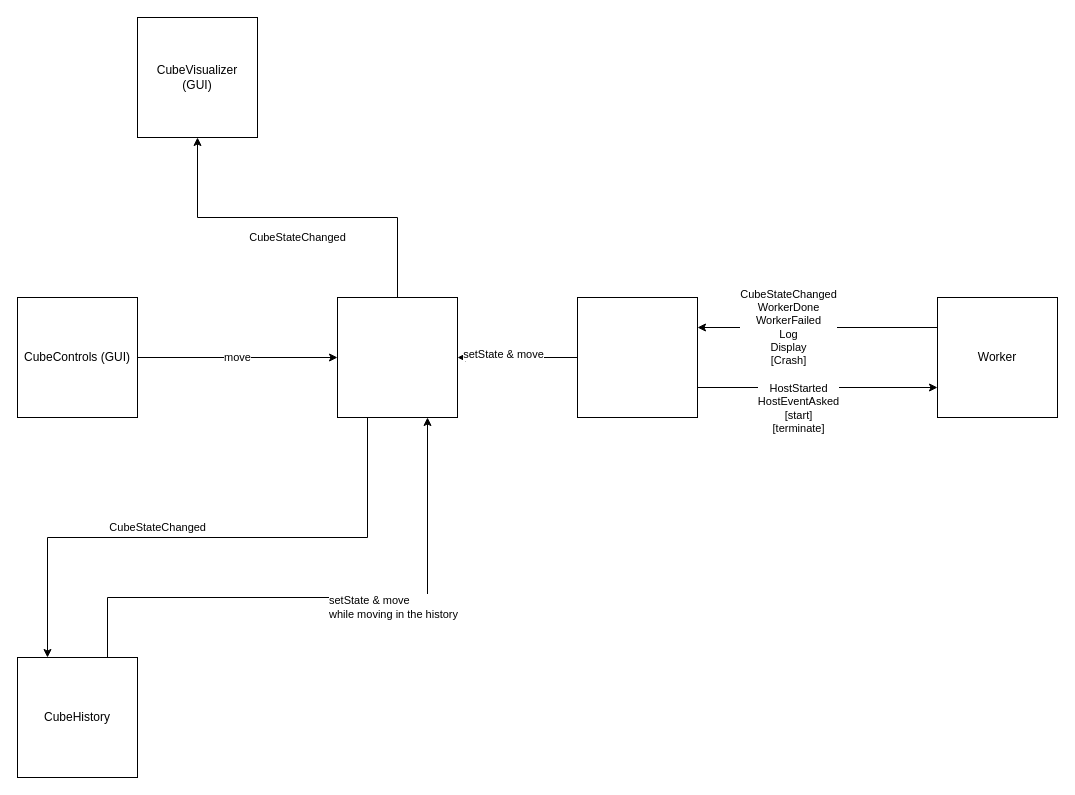
The diagram is 1075 pixels wide and 795 high, and some of its shapes have lost their labels. Each missing label, with the centre of its shape:
"Cube" belongs at (x=397, y=357).
"ProgramRunner" belongs at (x=637, y=357).
